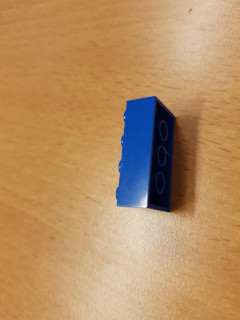2x4 blue: (112, 95, 175, 214)
